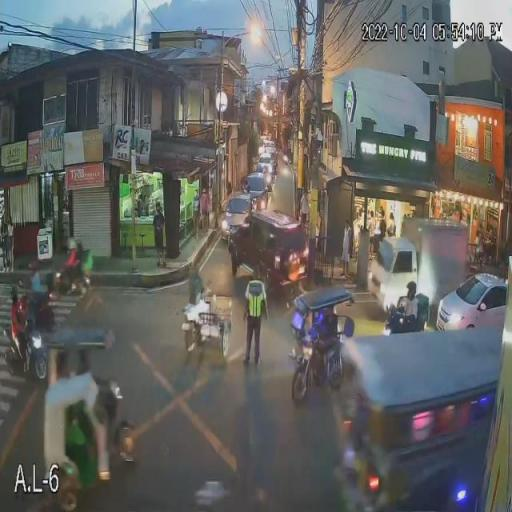helmet: (8, 288, 26, 308), (404, 282, 418, 300), (26, 261, 42, 275), (66, 237, 78, 251)
motorcycle: (290, 286, 355, 404), (8, 333, 42, 374), (54, 268, 92, 299), (384, 308, 429, 334), (28, 288, 56, 325)
rider: (8, 288, 35, 362), (303, 310, 333, 360), (27, 261, 45, 330), (394, 281, 420, 324), (60, 240, 82, 286)
